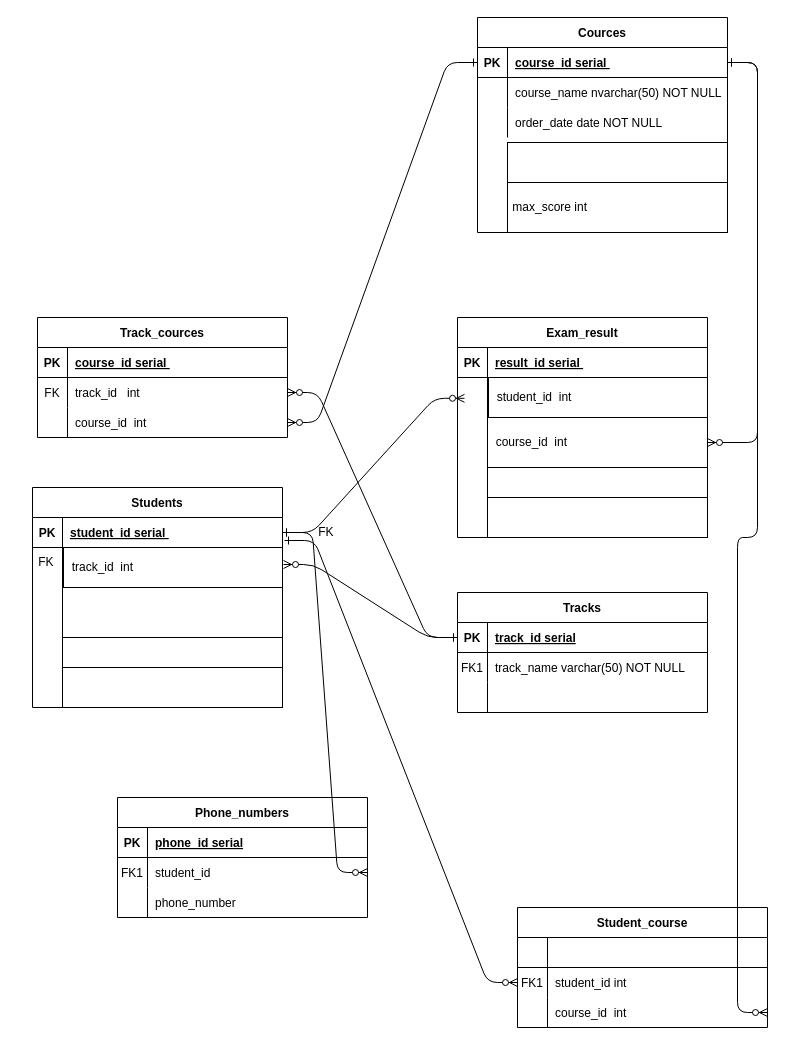
Image size: 794x1045. Some labels were removed from this diagram. Here are the shapes that lost their labels. From the top down, the centre of each, then its label:
point 617,162: description text
point 597,482: score int
point 597,517: exam_date date
point 172,612: student_name varchar(50)
point 172,652: email varchar(100)
point 172,687: address varchar(200)
